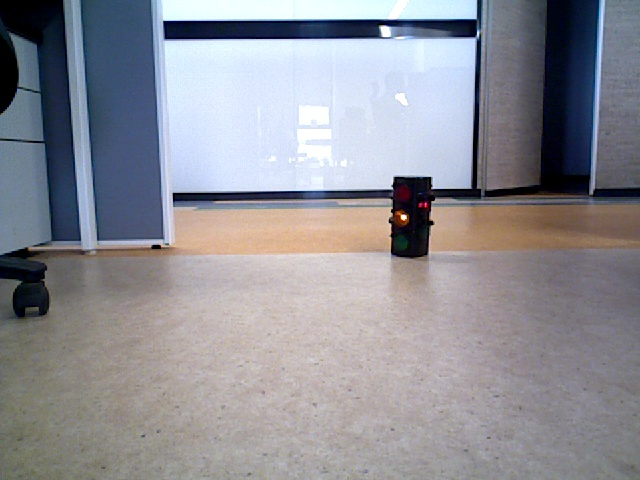yellow: (394, 177, 429, 255)
